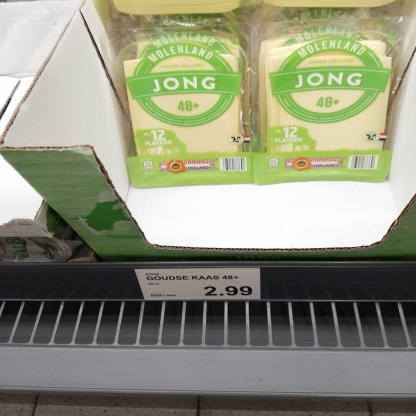prtg: (135, 269, 262, 300)
